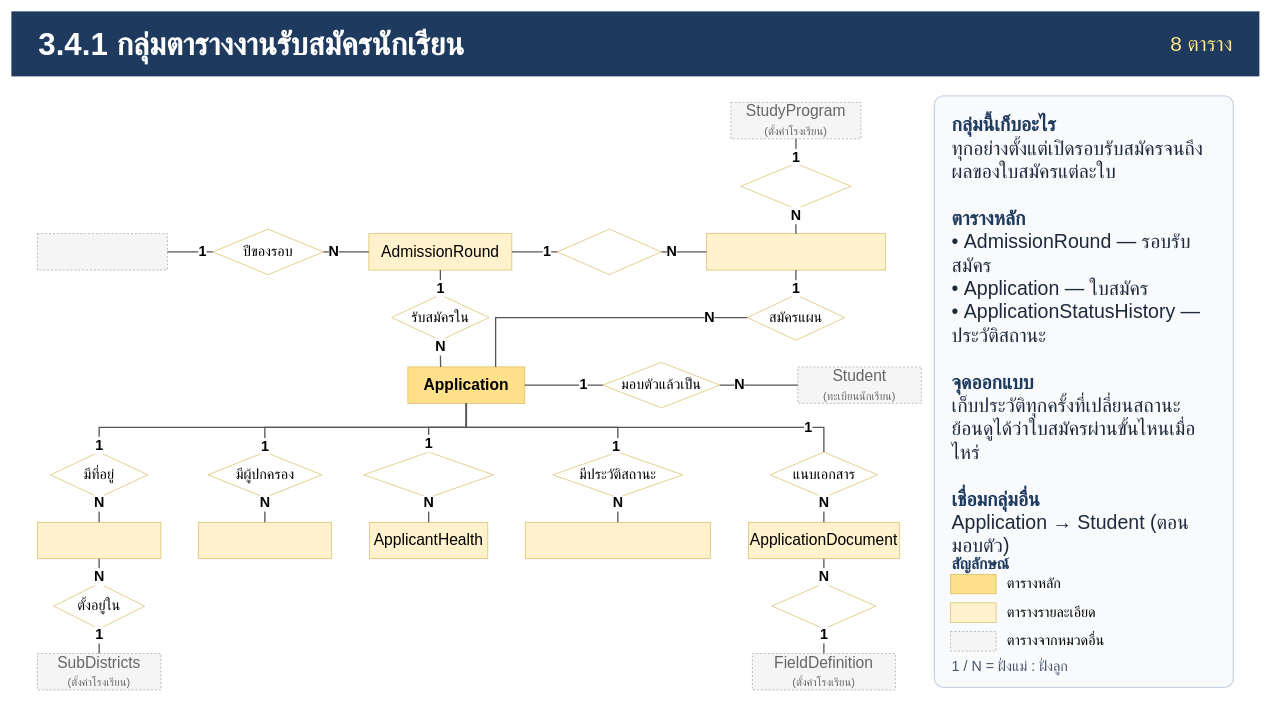
Image size: 1270x724. Some labels were removed from this diagram. The box of each missing label's shape, as (x1, y1, x2, y2) in pixels:
AcademicYears (ตั้งค่าโรงเรียน): (37, 233, 167, 270)
AdmissionCoursePlan: (706, 233, 885, 270)
ApplicantAddress: (37, 522, 161, 559)
ApplicantGuardian: (198, 522, 332, 559)
ApplicationStatusHistory: (525, 522, 710, 559)
ชนิดเอกสาร: (771, 583, 876, 629)
มีข้อมูลสุขภาพ: (363, 451, 494, 498)
เปิดรับเป็น: (740, 163, 851, 209)
เปิดแผน: (557, 228, 661, 275)
